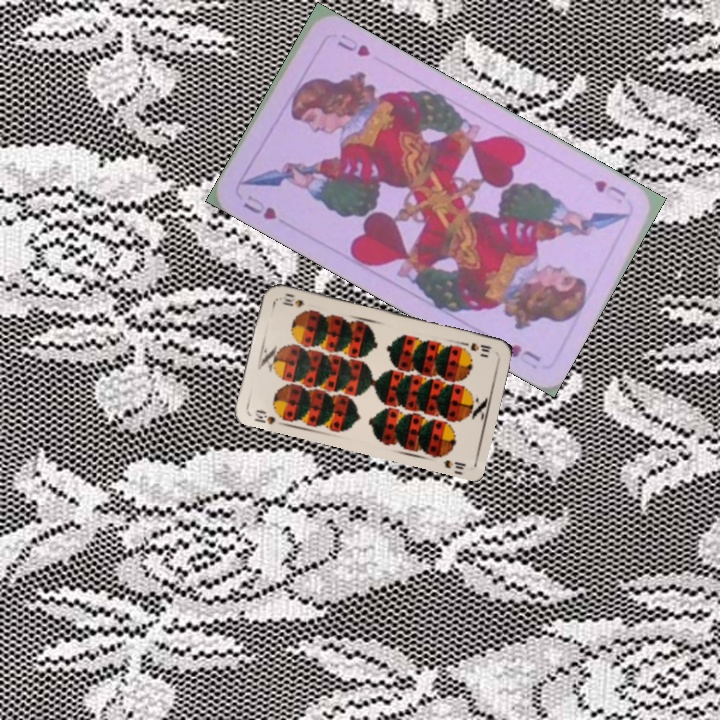HU: (239, 190, 279, 223), (590, 176, 628, 206)
S10: (250, 405, 278, 427), (458, 338, 494, 355)
